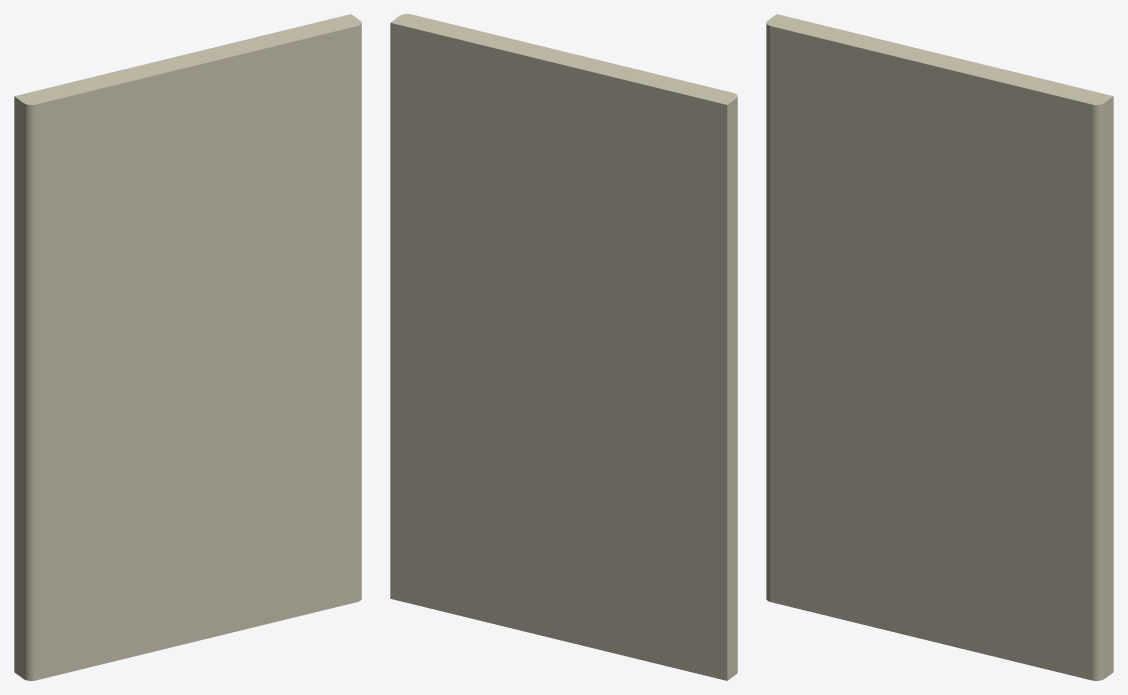
The model's file is esp2026_p13_back_foam.glb.
3 renders of one model, left to right at view 1: azimuth 30°, elevation 25°; view 2: azimuth 150°, elevation 25°; view 3: azimuth 330°, elevation 25°, orthographic.
Visible parts, largest first — view 1: back cushion foam; view 2: back cushion foam; view 3: back cushion foam.
Boxes of the visible parts, bbox=[...] form: back cushion foam: bbox=[14, 14, 361, 680]; back cushion foam: bbox=[390, 14, 737, 680]; back cushion foam: bbox=[766, 14, 1113, 680].
Size of the model in its own units: 420 by 686 by 30.
